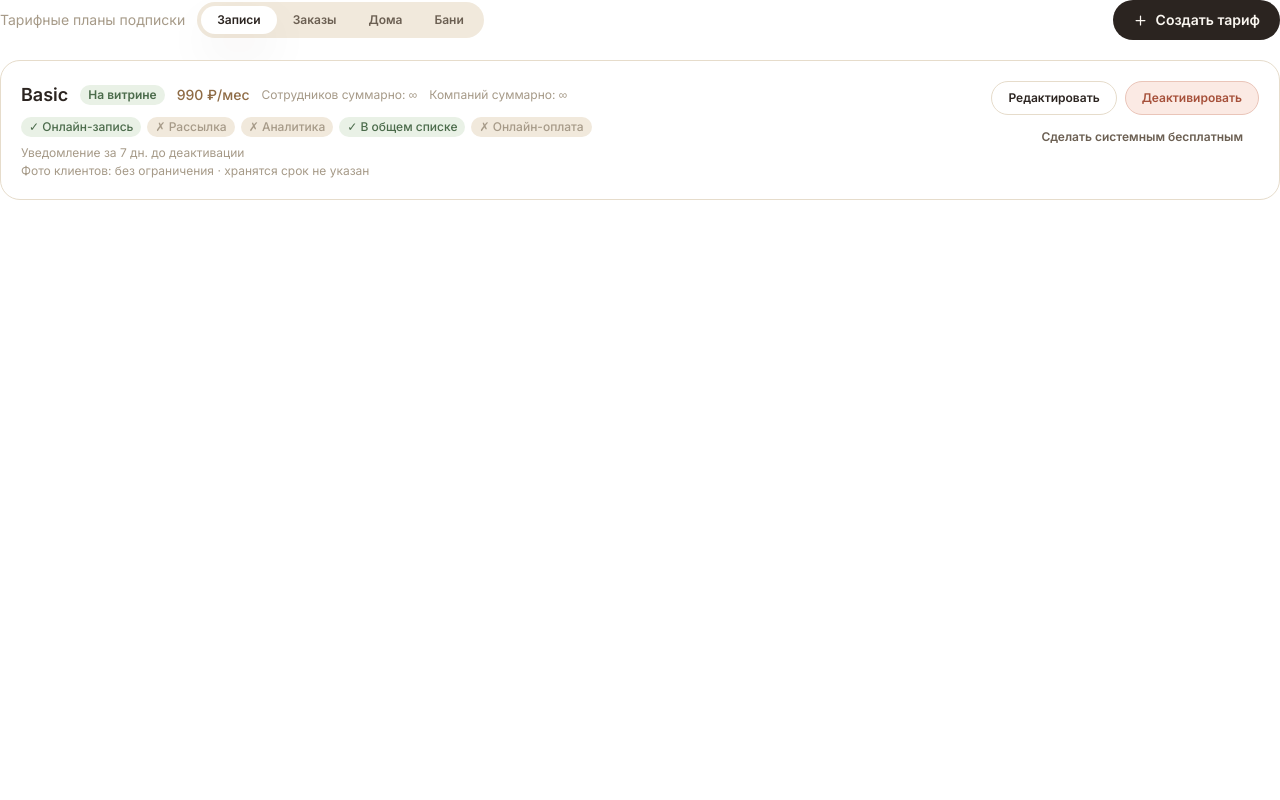
Scenario: PlansTab — messengers are not a plan feature (cycle 43, US-43-02) › leaves the other options in the matrix, drops WhatsApp / MAX and prints the server note under it
This screenshot has width=1280, height=800.
Click the button "Редактировать": (1054, 98) x1=992 y1=81 x2=1117 y2=115
(page scrolled)
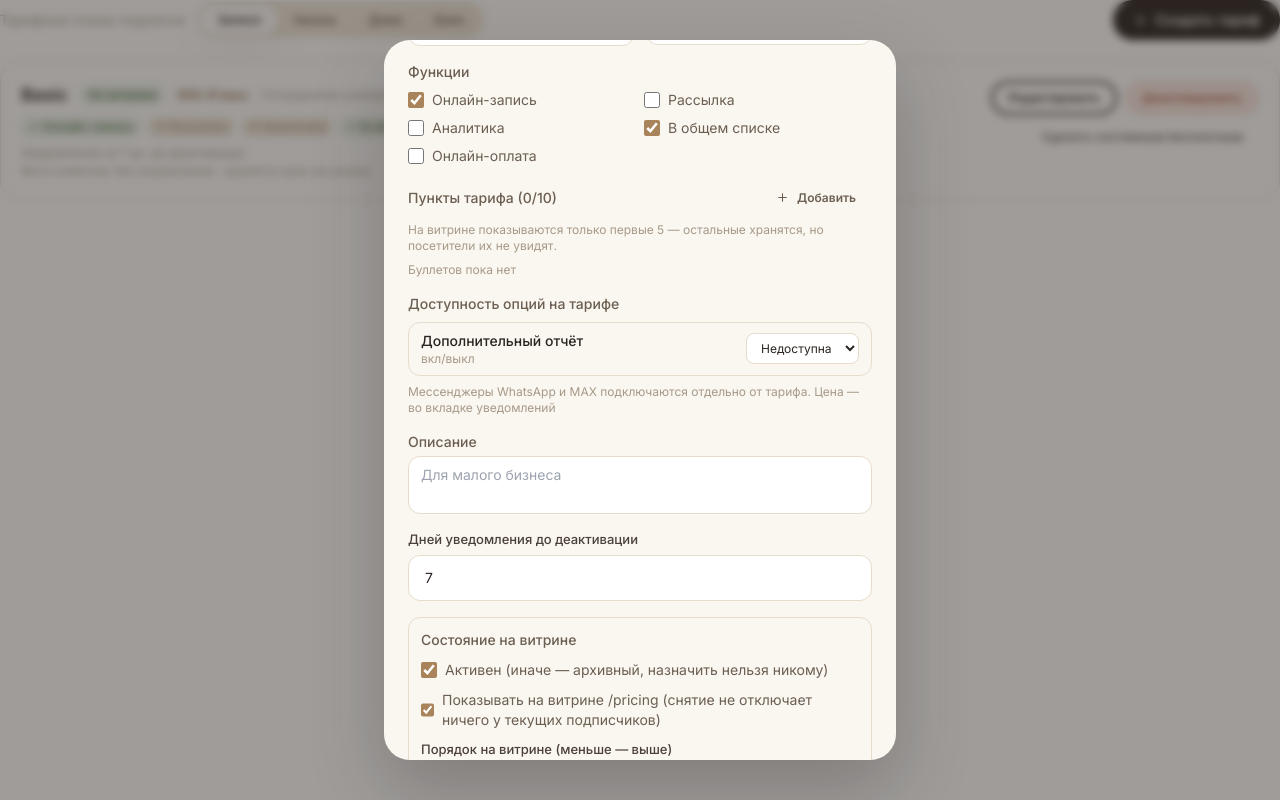
Expected: the text "Дополнительный отчёт" is shown, x1=421 y1=331 x2=583 y2=351
Expected: the text "Мессенджеры WhatsApp и MAX подключаются отдельно от тарифа. Цена — во вкладке уведомлений" is shown, x1=408 y1=384 x2=859 y2=415
